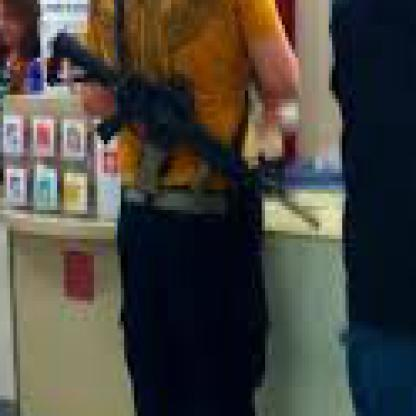gun: (67, 111, 413, 412)
